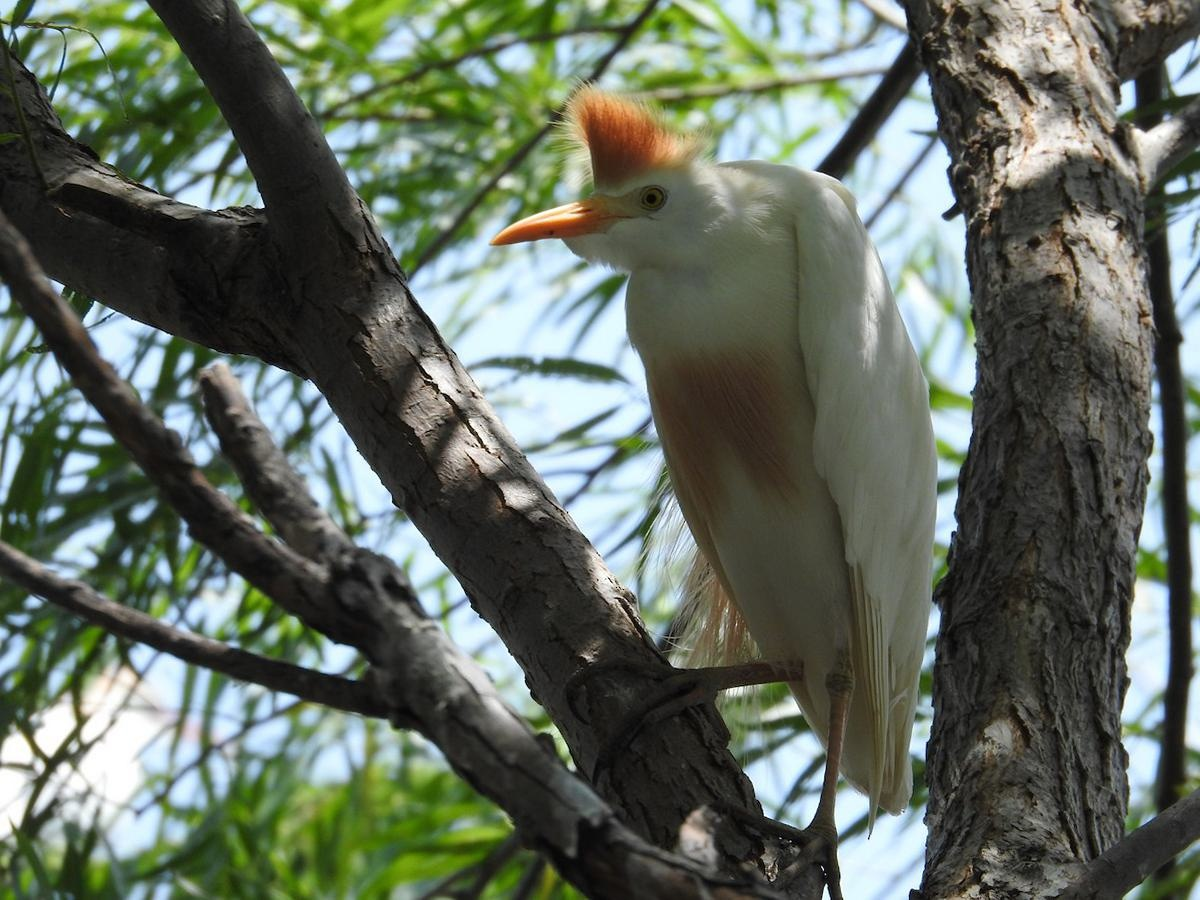egret: (515, 84, 950, 833)
